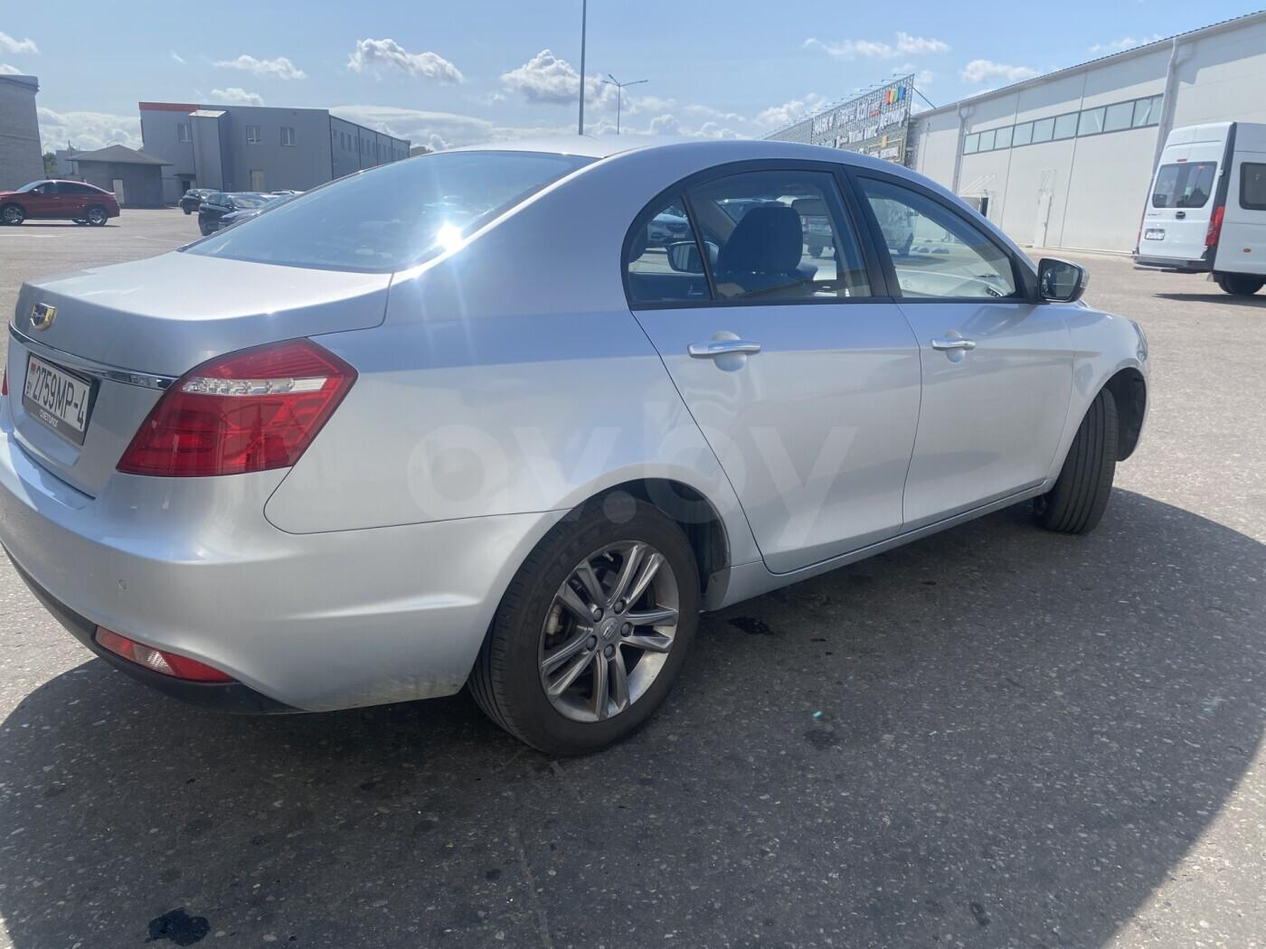Emgrand_2019-2021: (0, 136, 1153, 754)
